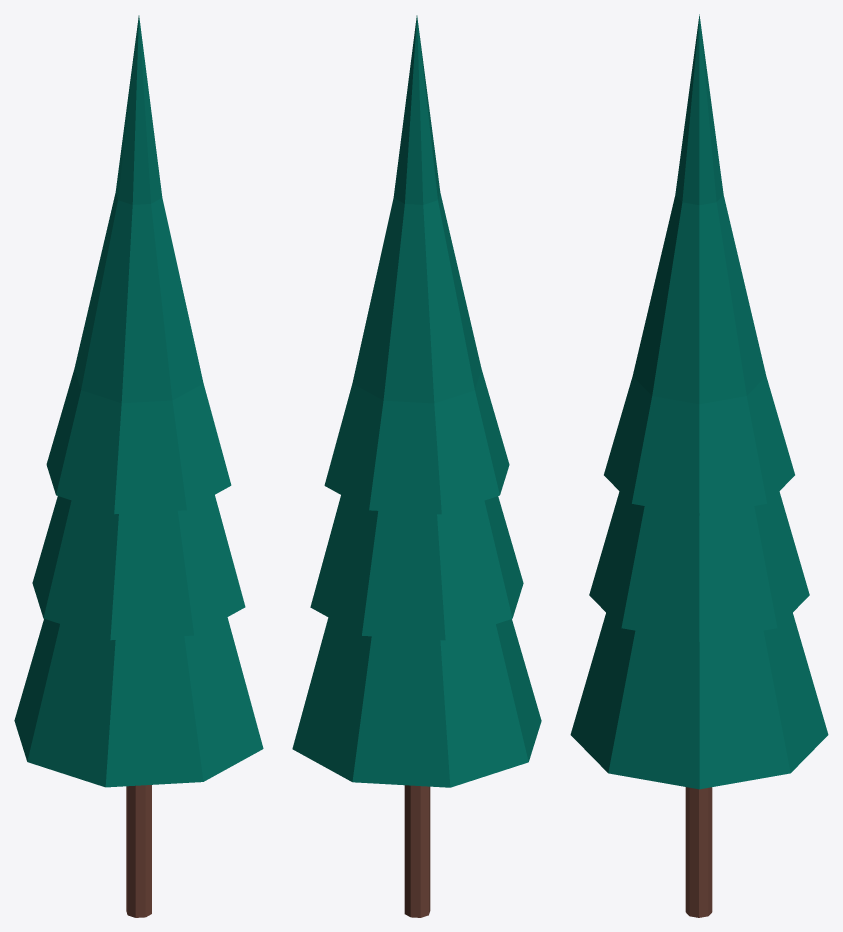
File: tree_1_2.dae
The picture shows the model from 3 angles, left to right: view 1: azimuth 30°, elevation 25°; view 2: azimuth 150°, elevation 25°; view 3: azimuth 270°, elevation 25°; orthographic projection.
Parts seen in each view (by area): view 1: tree_1_2; view 2: tree_1_2; view 3: tree_1_2.
Boxes of the visible parts, bbox=[...] form: tree_1_2: bbox=[14, 15, 263, 917]; tree_1_2: bbox=[292, 15, 541, 917]; tree_1_2: bbox=[570, 14, 828, 917].
Bounding box in the file's own units: 1.51 × 1.51 × 5.79.
